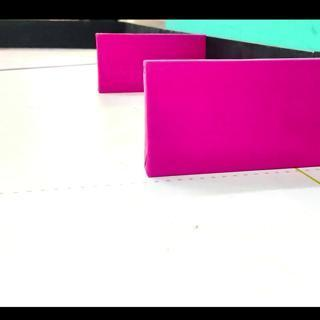xparking: (148, 61, 320, 180), (98, 34, 142, 94)
